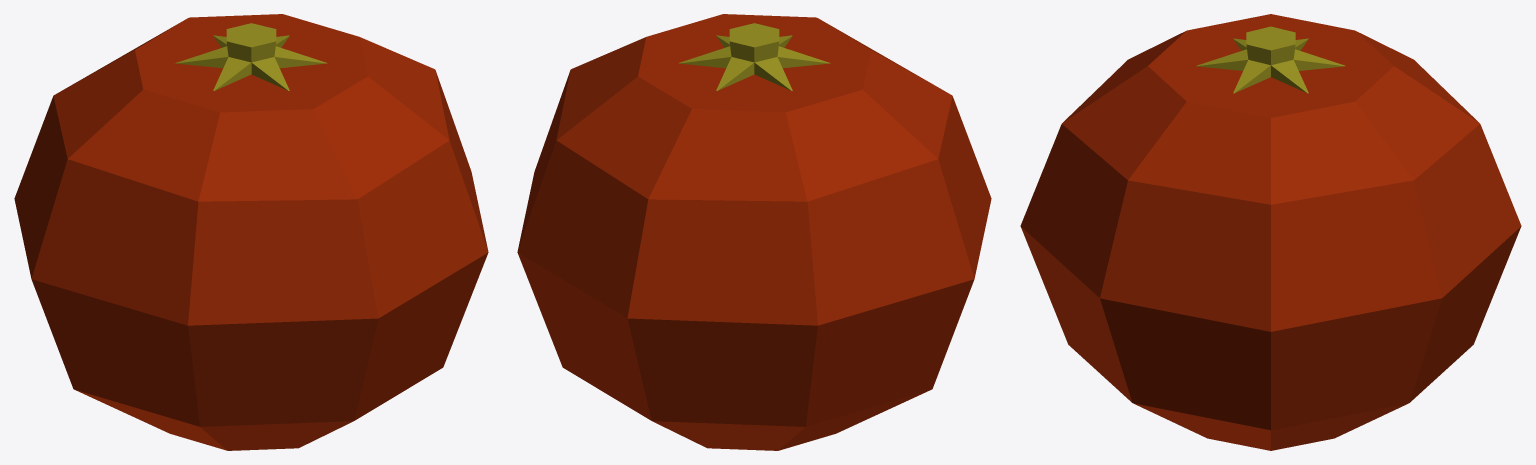
The model's file is Tomato.fbx.
3 views of the same model, side by side, from view 1: azimuth 30°, elevation 25°; view 2: azimuth 150°, elevation 25°; view 3: azimuth 270°, elevation 25° (orthographic).
Parts seen in each view (by area): view 1: Tomato_All, Tomato_Top, Tomato_Down; view 2: Tomato_Top, Tomato_All, Tomato_Down; view 3: Tomato_Top, Tomato_All, Tomato_Down.
Part boxes in pixels (x1=…): Tomato_All: x1=14, y1=14, x2=488, y2=450; Tomato_Top: x1=135, y1=14, x2=474, y2=319; Tomato_Down: x1=119, y1=315, x2=384, y2=448; Tomato_Top: x1=517, y1=14, x2=870, y2=325; Tomato_All: x1=627, y1=16, x2=991, y2=431; Tomato_Down: x1=517, y1=252, x2=918, y2=450; Tomato_Top: x1=1020, y1=14, x2=1521, y2=331; Tomato_All: x1=1021, y1=14, x2=1477, y2=450; Tomato_Down: x1=1020, y1=226, x2=1521, y2=450.
Bounding box in the file's own units: 7.07 × 5.87 × 7.07.
